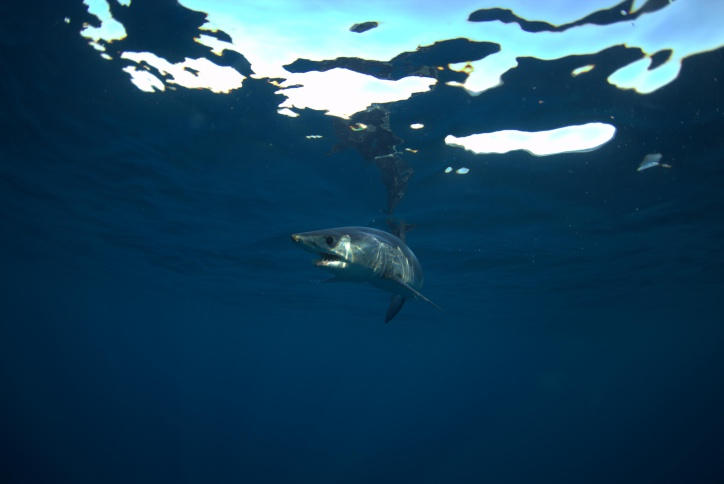Mako: (272, 203, 452, 333)
